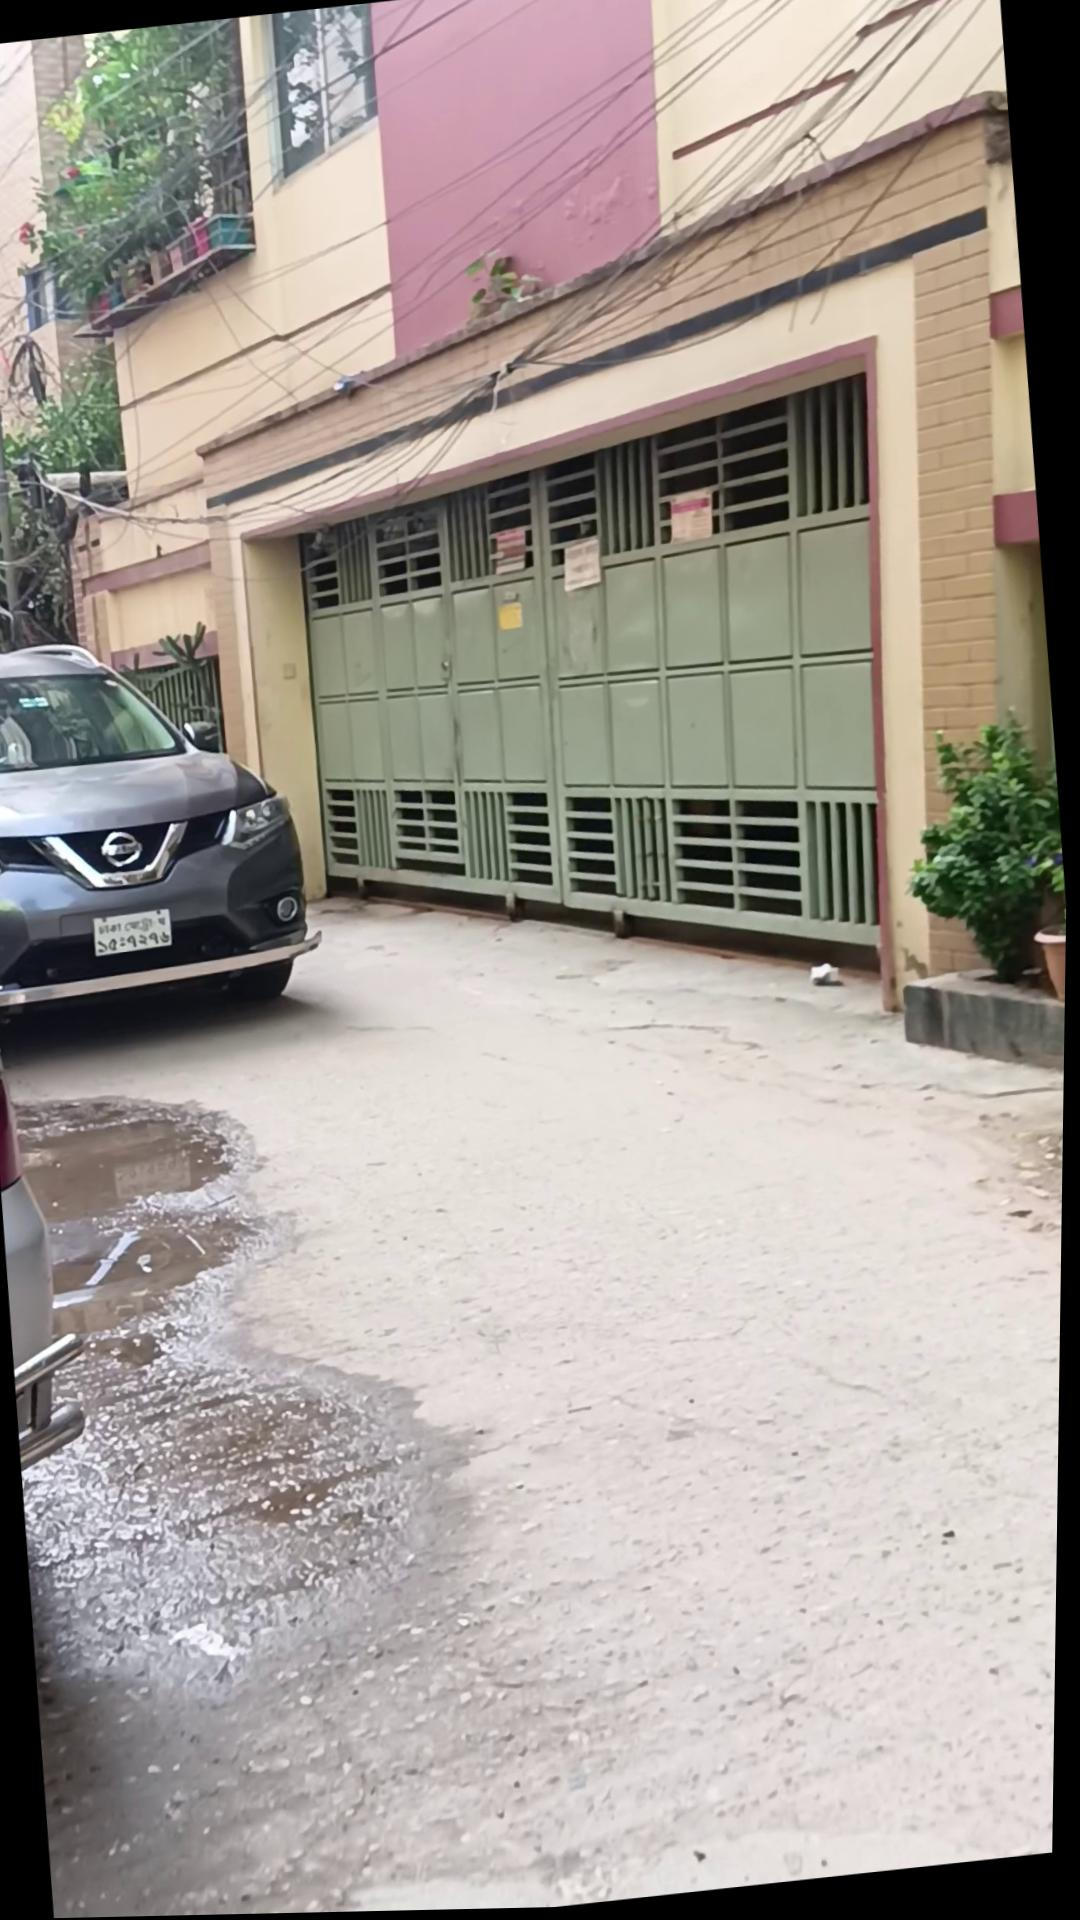Broken-road: (0, 814, 1071, 1920)
Car: (0, 615, 332, 1033)
Crosswalk: (898, 960, 1068, 1095)
Obstacle: (0, 290, 28, 649)
Railroad-crossing: (0, 1052, 454, 1571)
